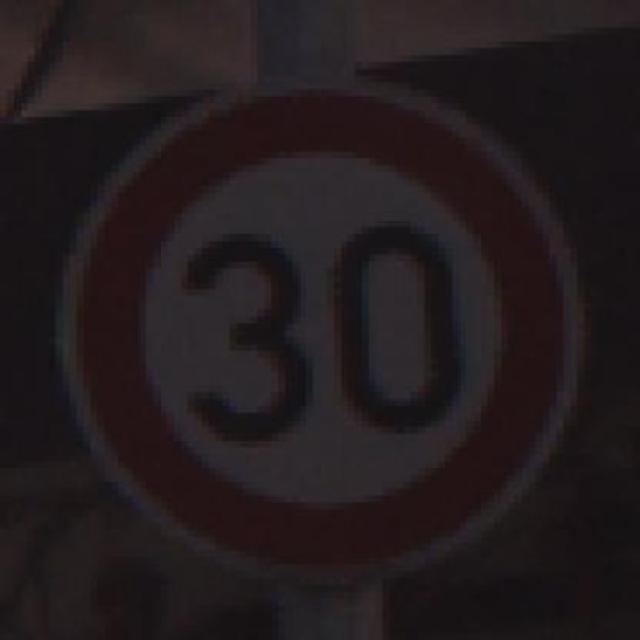Speed Limit 30 KMPh: (21, 61, 605, 584)
